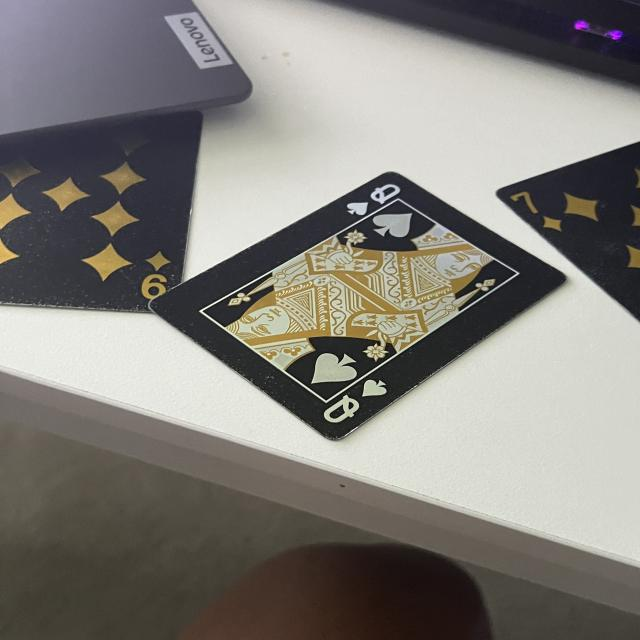7D: (504, 190, 570, 237)
9D: (140, 241, 177, 307)
QS: (310, 376, 393, 435), (341, 181, 404, 219)
